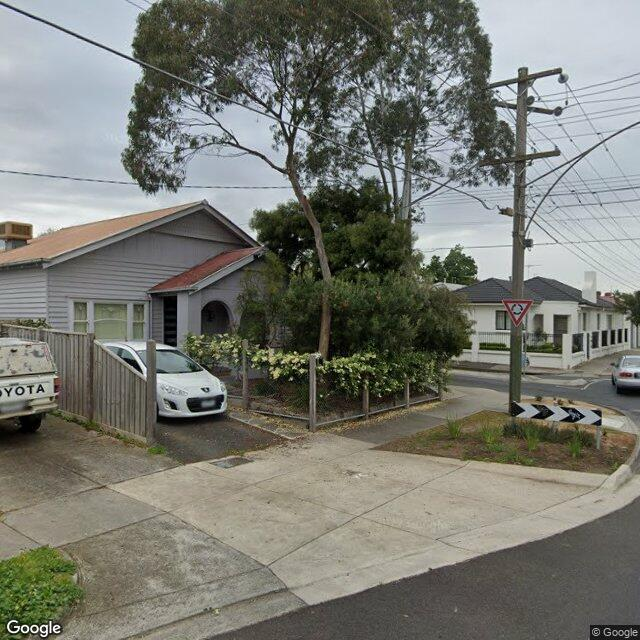HV-transmission: (484, 67, 570, 117)
crossarm: (485, 67, 564, 91), (482, 148, 562, 166), (490, 98, 562, 117)
timber-pole: (508, 64, 530, 402)
